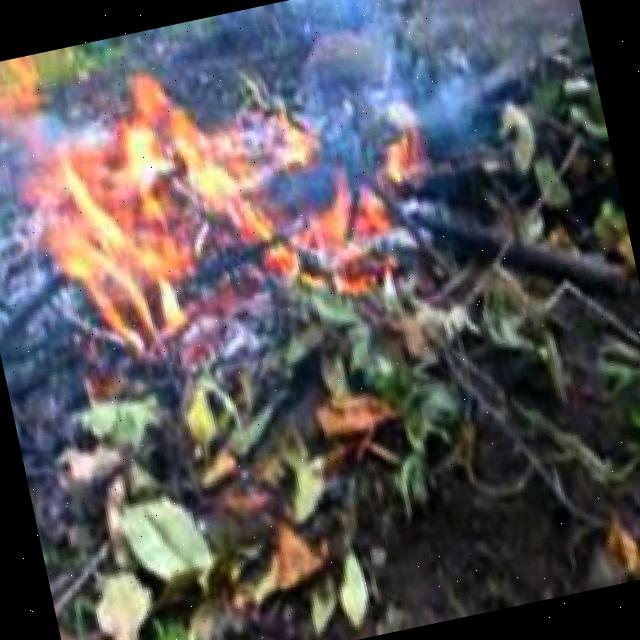fire: (0, 23, 438, 363)
